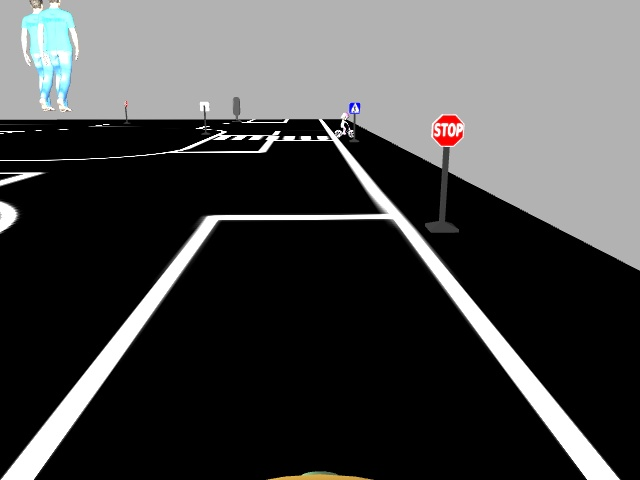Stop: (430, 111, 465, 147)
